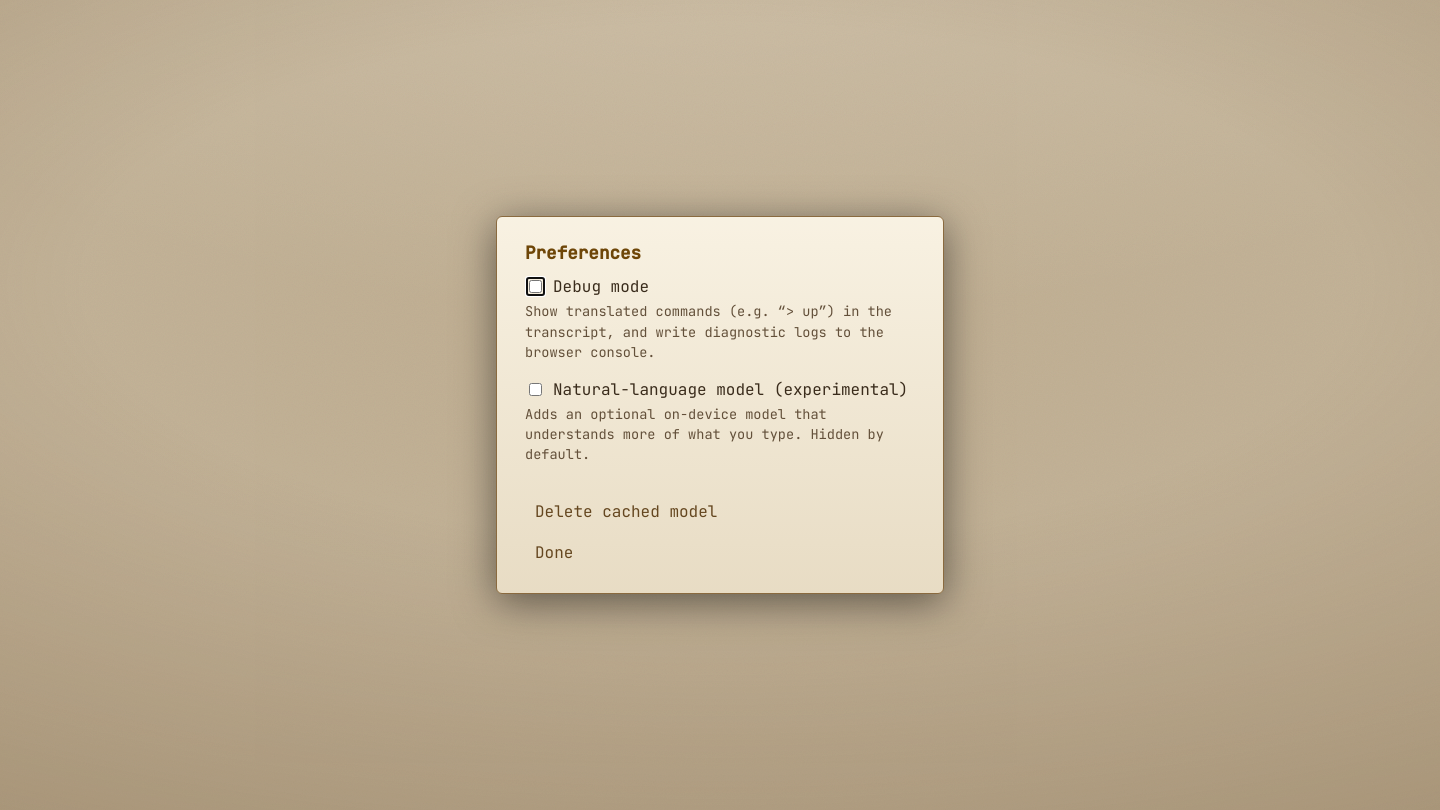
Test: PreferencesModal — delete cached model › cancel dismisses the confirm without deleting
The image size is (1440, 810).
Click the button "Delete cached model": point(626, 511) [525, 495, 727, 528]
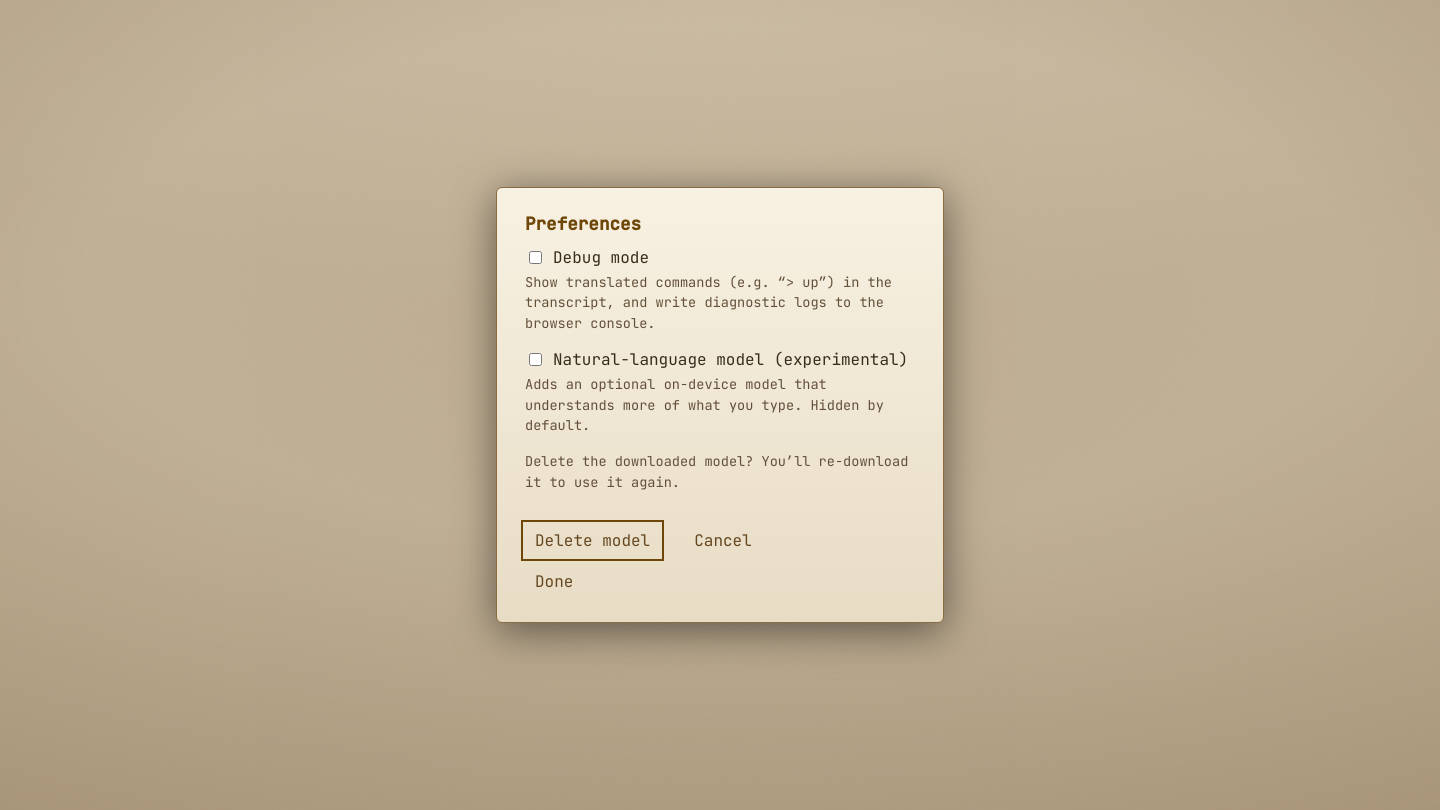
Click the button "Cancel": point(723, 541) [684, 524, 762, 557]
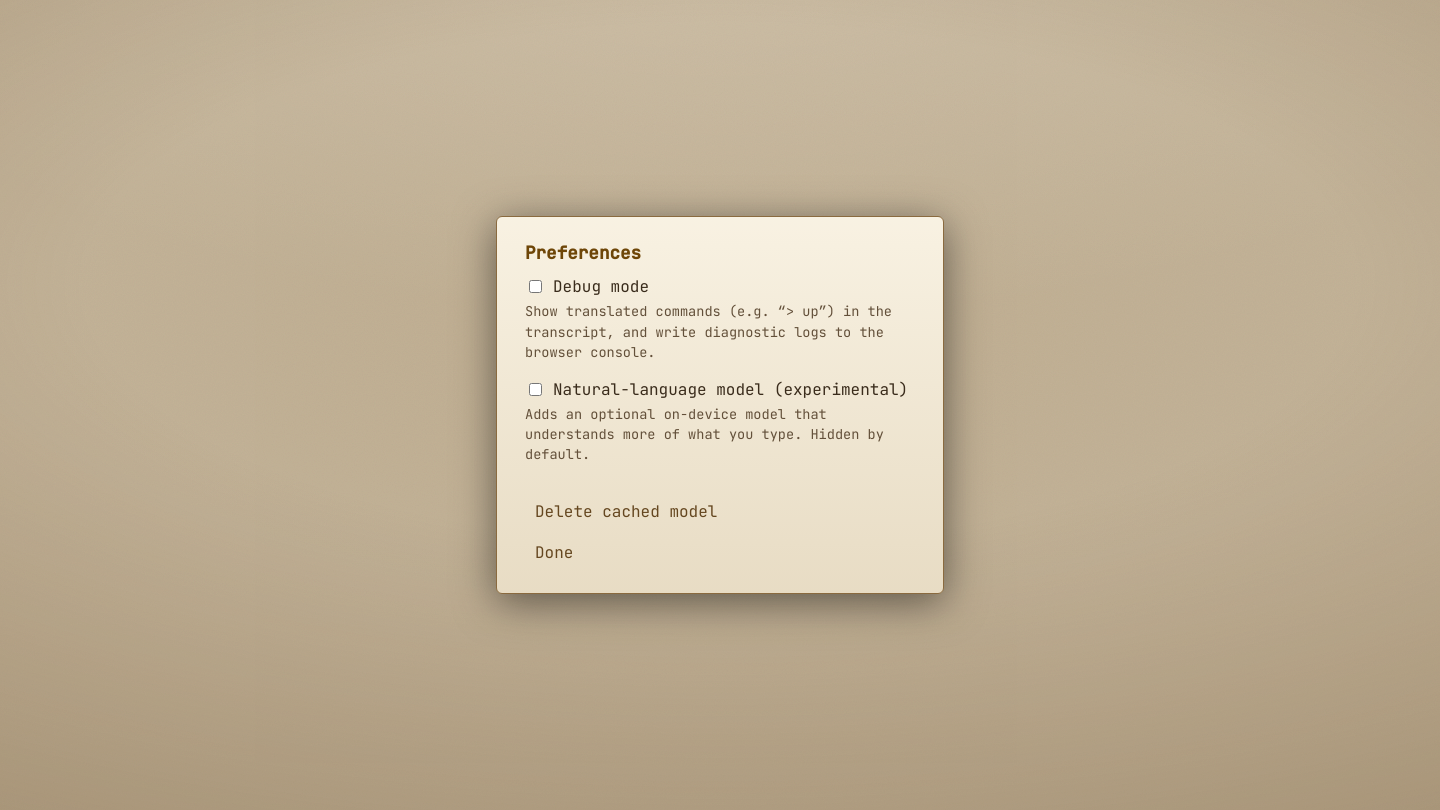
Check: the button "Delete cached model" is shown, box [525, 495, 727, 528]
